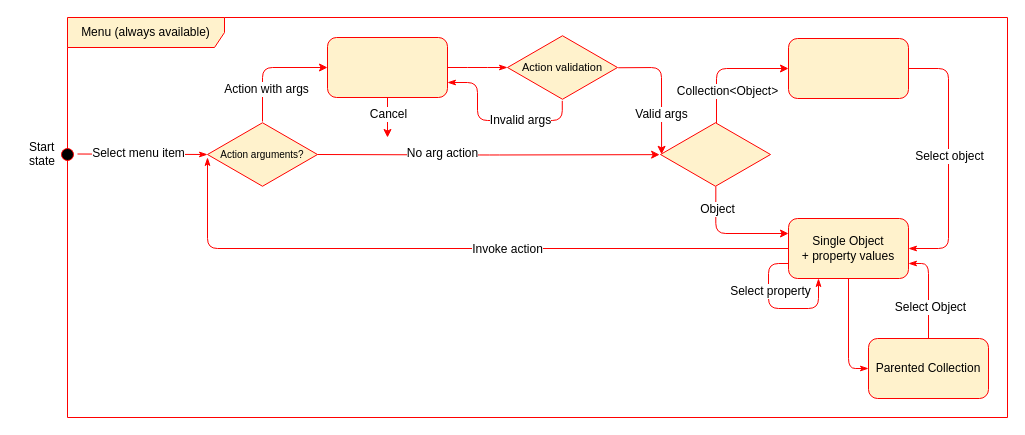
This 1025x435 diagram has some shape labels left out. Here are the shapes that lost their labels. From the top down, the centre of each, then its label:
At (387,67): "Action Prompt".
At (848,68): "Standalone Collection".
At (715,154): "Determine return type".
